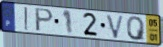1: (61, 10, 74, 37)
2: (82, 12, 99, 38)
I: (23, 6, 30, 32)
P: (34, 7, 55, 33)
Q: (126, 16, 147, 42)
V: (105, 13, 126, 40)
